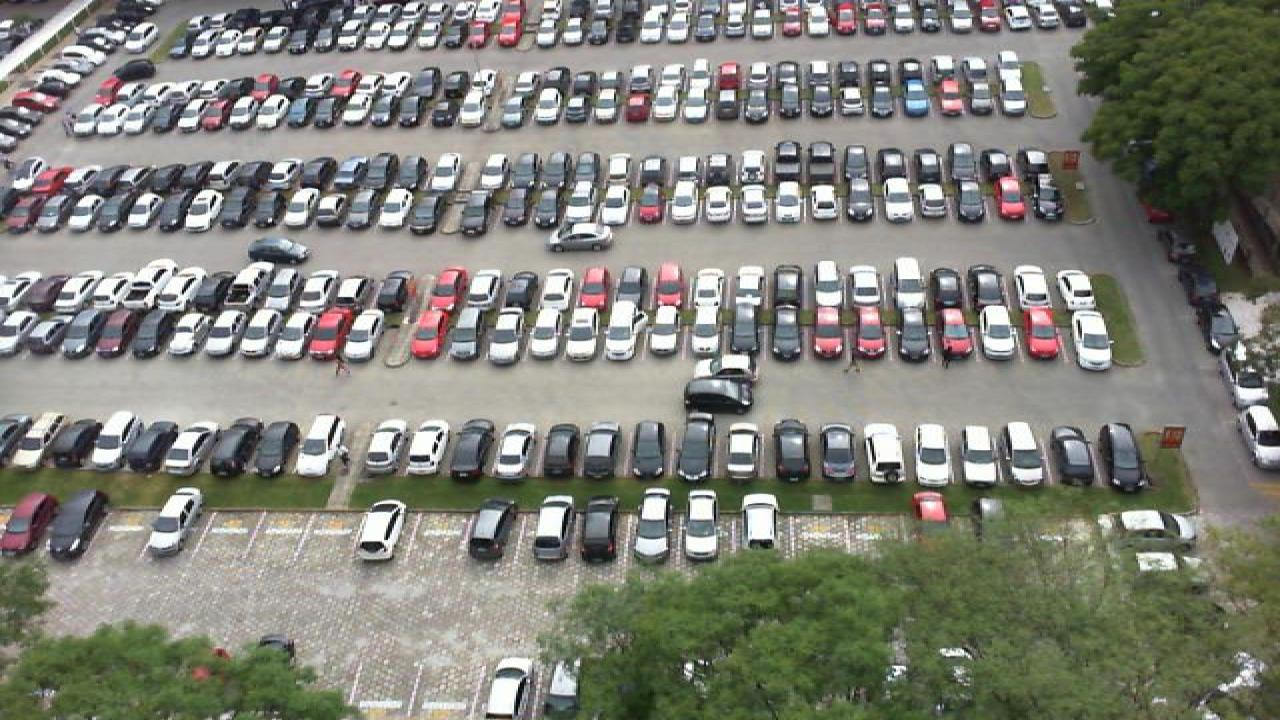Car: (44, 490, 108, 557), (144, 486, 204, 557), (1098, 423, 1150, 491), (4, 412, 66, 469), (352, 498, 408, 560), (466, 497, 518, 562), (0, 492, 54, 554), (204, 416, 258, 477), (482, 656, 532, 720), (292, 414, 342, 477), (532, 494, 578, 561), (1052, 423, 1100, 487), (446, 418, 496, 478), (404, 417, 454, 476), (1002, 421, 1048, 485), (1068, 310, 1116, 371), (684, 374, 756, 414), (538, 656, 582, 720), (576, 494, 618, 561), (92, 411, 138, 472), (682, 489, 722, 559), (912, 422, 956, 485), (958, 420, 1002, 483), (632, 487, 672, 556), (1238, 404, 1280, 469), (680, 412, 720, 480), (362, 416, 408, 475), (494, 420, 540, 478), (626, 419, 668, 481), (1020, 302, 1064, 361), (160, 420, 208, 474), (250, 418, 296, 474), (772, 419, 814, 480), (50, 416, 100, 467), (868, 422, 910, 482), (692, 351, 760, 388), (126, 416, 172, 470), (820, 422, 862, 481), (168, 306, 216, 357), (16, 306, 66, 354), (538, 421, 580, 478), (54, 306, 100, 358), (580, 420, 620, 479), (934, 302, 974, 361), (90, 307, 138, 356), (206, 306, 252, 357), (406, 306, 450, 359), (740, 492, 780, 550), (852, 301, 892, 359), (130, 307, 176, 357), (726, 422, 766, 479), (978, 303, 1018, 360), (130, 258, 176, 307), (446, 305, 486, 361), (894, 303, 934, 359), (812, 301, 850, 359), (246, 306, 288, 358), (648, 304, 686, 361), (310, 306, 352, 357), (526, 304, 564, 360), (546, 222, 616, 252), (562, 305, 600, 360), (602, 304, 640, 359), (686, 304, 724, 359), (728, 305, 766, 360), (764, 304, 802, 358), (346, 308, 386, 359), (890, 255, 930, 306), (92, 266, 138, 310), (218, 264, 264, 308), (490, 307, 528, 359), (280, 308, 320, 357), (1054, 266, 1096, 310), (24, 271, 68, 313), (58, 270, 102, 312), (294, 270, 336, 312), (1010, 266, 1052, 307), (162, 267, 204, 308), (260, 269, 302, 309), (370, 268, 410, 310), (246, 236, 310, 262), (810, 259, 844, 306), (966, 264, 1004, 306), (430, 264, 466, 308), (848, 263, 884, 306), (928, 264, 964, 306), (578, 263, 612, 307), (652, 262, 686, 306), (690, 266, 726, 307), (0, 310, 32, 356), (770, 263, 804, 306), (912, 490, 952, 526), (0, 273, 36, 313), (732, 264, 764, 308), (470, 267, 506, 306), (334, 271, 370, 309), (614, 266, 648, 306), (542, 266, 574, 307), (506, 269, 540, 307)
